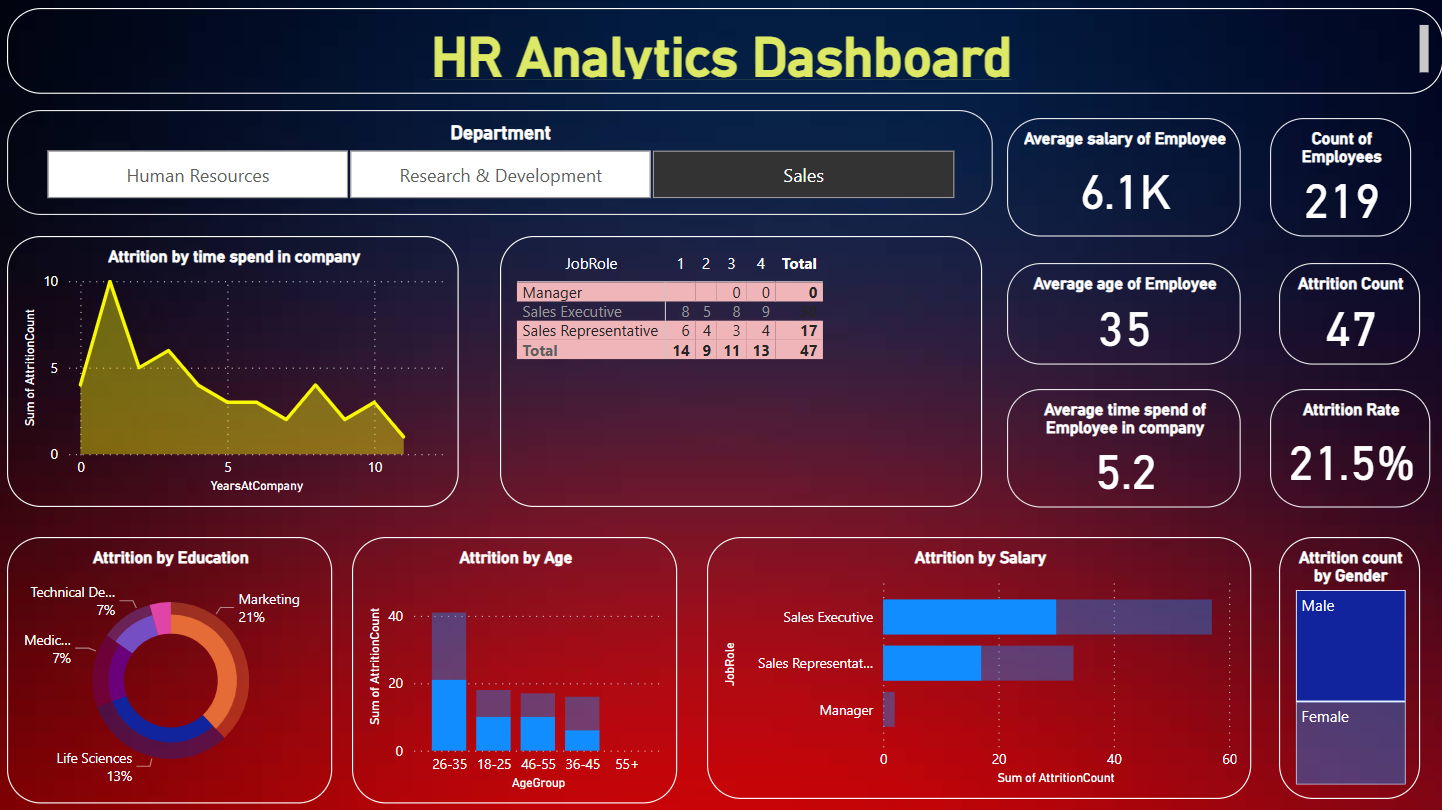

The page's visual inventory and layout, read from the dashboard file:
{"tool":"powerbi","page":{"name":"Page 1","canvas":[1280,720],"ordinal":0},"visuals":[{"type":"card","title":"Count of Employees","fields":{"Values":["CountNonNull(HR_Analytics.EmpID)"]},"box":[1126.9,105.1,125.1,105.1],"z":0},{"type":"card","title":"Attrition Count","fields":{"Values":["Sum(HR_Analytics.AttritionCount)"]},"box":[1134.9,234.2,125.1,90.1],"z":1000},{"type":"card","title":"Attrition Rate","fields":{"Values":["HR_Analytics.AttritionRate"]},"box":[1126.9,345.3,142.1,105.1],"z":2000},{"type":"card","title":"Average age of Employee","fields":{"Values":["Avg(HR_Analytics.Age)"]},"box":[893.7,234.2,207.2,90.1],"z":3000},{"type":"card","title":"Average salary of Employee","fields":{"Values":["Avg(HR_Analytics.MonthlyIncome)"]},"box":[893.7,105.1,207.2,105.1],"z":4000},{"type":"card","title":"Average time spend of Employee in company","fields":{"Values":["Avg(HR_Analytics.YearsAtCompany)"]},"box":[893.7,345.3,207.2,105.1],"z":5000},{"type":"donutChart","title":"Attrition by Education","fields":{"Category":["HR_Analytics.EducationField"],"Y":["Sum(HR_Analytics.AttritionCount)"]},"box":[8,476.4,288.2,236.2],"z":6000},{"type":"columnChart","title":"Attrition by Age","fields":{"Category":["HR_Analytics.AgeGroup"],"Y":["Sum(HR_Analytics.AttritionCount)"]},"box":[313.2,476.4,288.2,236.2],"z":7000},{"type":"pivotTable","fields":{"Rows":["HR_Analytics.JobRole"],"Columns":["HR_Analytics.JobSatisfaction"],"Values":["Sum(HR_Analytics.AttritionCount)"]},"box":[444.3,210.2,427.3,240.2],"z":8000},{"type":"barChart","title":"Attrition by Salary","fields":{"Y":["Sum(HR_Analytics.AttritionCount)"],"Category":["HR_Analytics.JobRole"]},"box":[627.5,476.4,482.4,232.2],"z":9000},{"type":"areaChart","title":"Attrition by time spend in company","fields":{"Category":["HR_Analytics.YearsAtCompany"],"Y":["Sum(HR_Analytics.AttritionCount)"]},"box":[8,210.2,400.3,240.2],"z":10000},{"type":"treemap","title":"Attrition count by Gender","fields":{"Group":["HR_Analytics.Gender"],"Values":["Sum(HR_Analytics.AttritionCount)"]},"box":[1134.9,476.4,125.1,232.2],"z":11000},{"type":"slicer","title":"Department","fields":{"Values":["HR_Analytics.Department"]},"box":[8,98.1,872.7,93.1],"z":11001},{"type":"textbox","box":[8,8,1272,76.1],"z":11002}]}

Visuals, with their boxes in screenshot pixels (x1, y1, x2, y2), scaled from the page's 1280x720 canvas onto the 1442x810 screenshot:
"Count of Employees" card: locate(1270, 118, 1410, 236)
"Attrition Count" card: locate(1279, 263, 1419, 365)
"Attrition Rate" card: locate(1270, 388, 1430, 507)
"Average age of Employee" card: locate(1007, 263, 1240, 365)
"Average salary of Employee" card: locate(1007, 118, 1240, 236)
"Average time spend of Employee in company" card: locate(1007, 388, 1240, 507)
"Attrition by Education" donutChart: locate(9, 536, 334, 802)
"Attrition by Age" columnChart: locate(353, 536, 678, 802)
pivotTable - HR_Analytics.JobRole x HR_Analytics.JobSatisfaction: locate(501, 236, 982, 507)
"Attrition by Salary" barChart: locate(707, 536, 1250, 797)
"Attrition by time spend in company" areaChart: locate(9, 236, 460, 507)
"Attrition count by Gender" treemap: locate(1279, 536, 1419, 797)
"Department" slicer: locate(9, 110, 992, 215)
textbox: locate(9, 9, 1441, 95)
